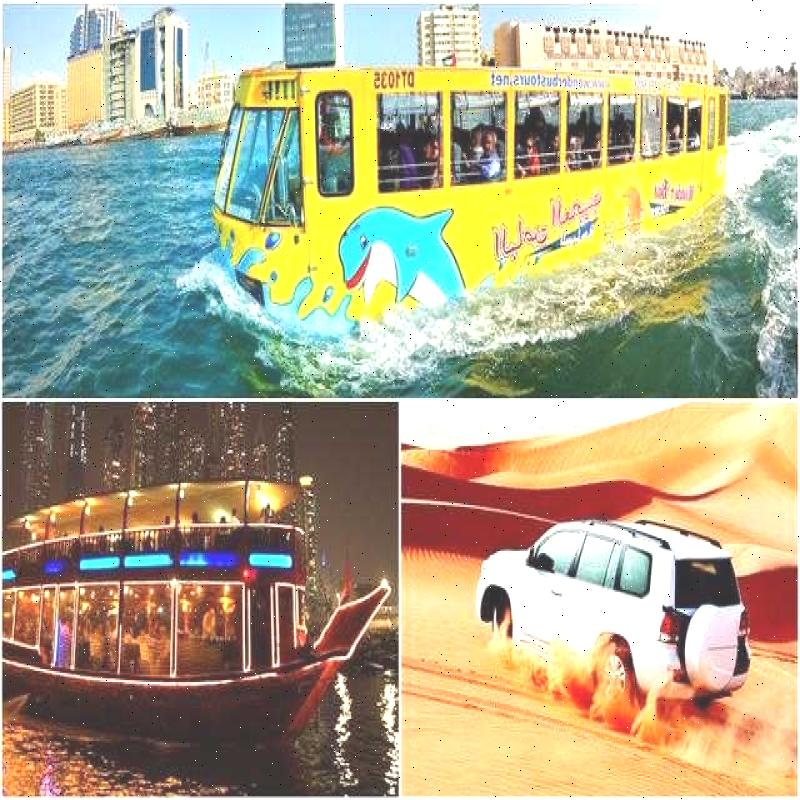bus: (186, 24, 740, 394)
